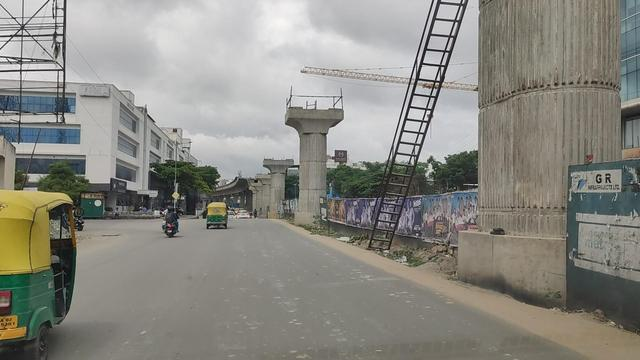LMV: (159, 205, 179, 236), (205, 203, 225, 228)
RoadDamages: (103, 229, 124, 241)
